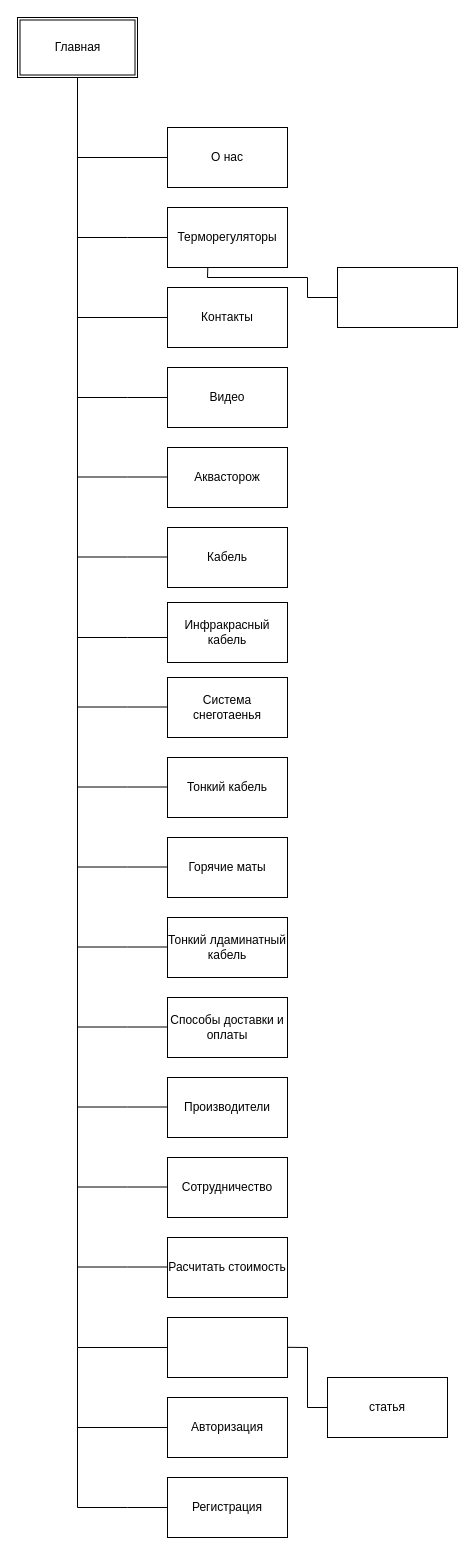
The diagram is 475 pixels wide and 1555 high, and some of its shapes have lost their labels. Here are the shapes that lost their labels. From the top down, the centre of each, then its label:
At (x=397, y=297): "Терморегулятор".
At (x=227, y=1347): "Блог".
